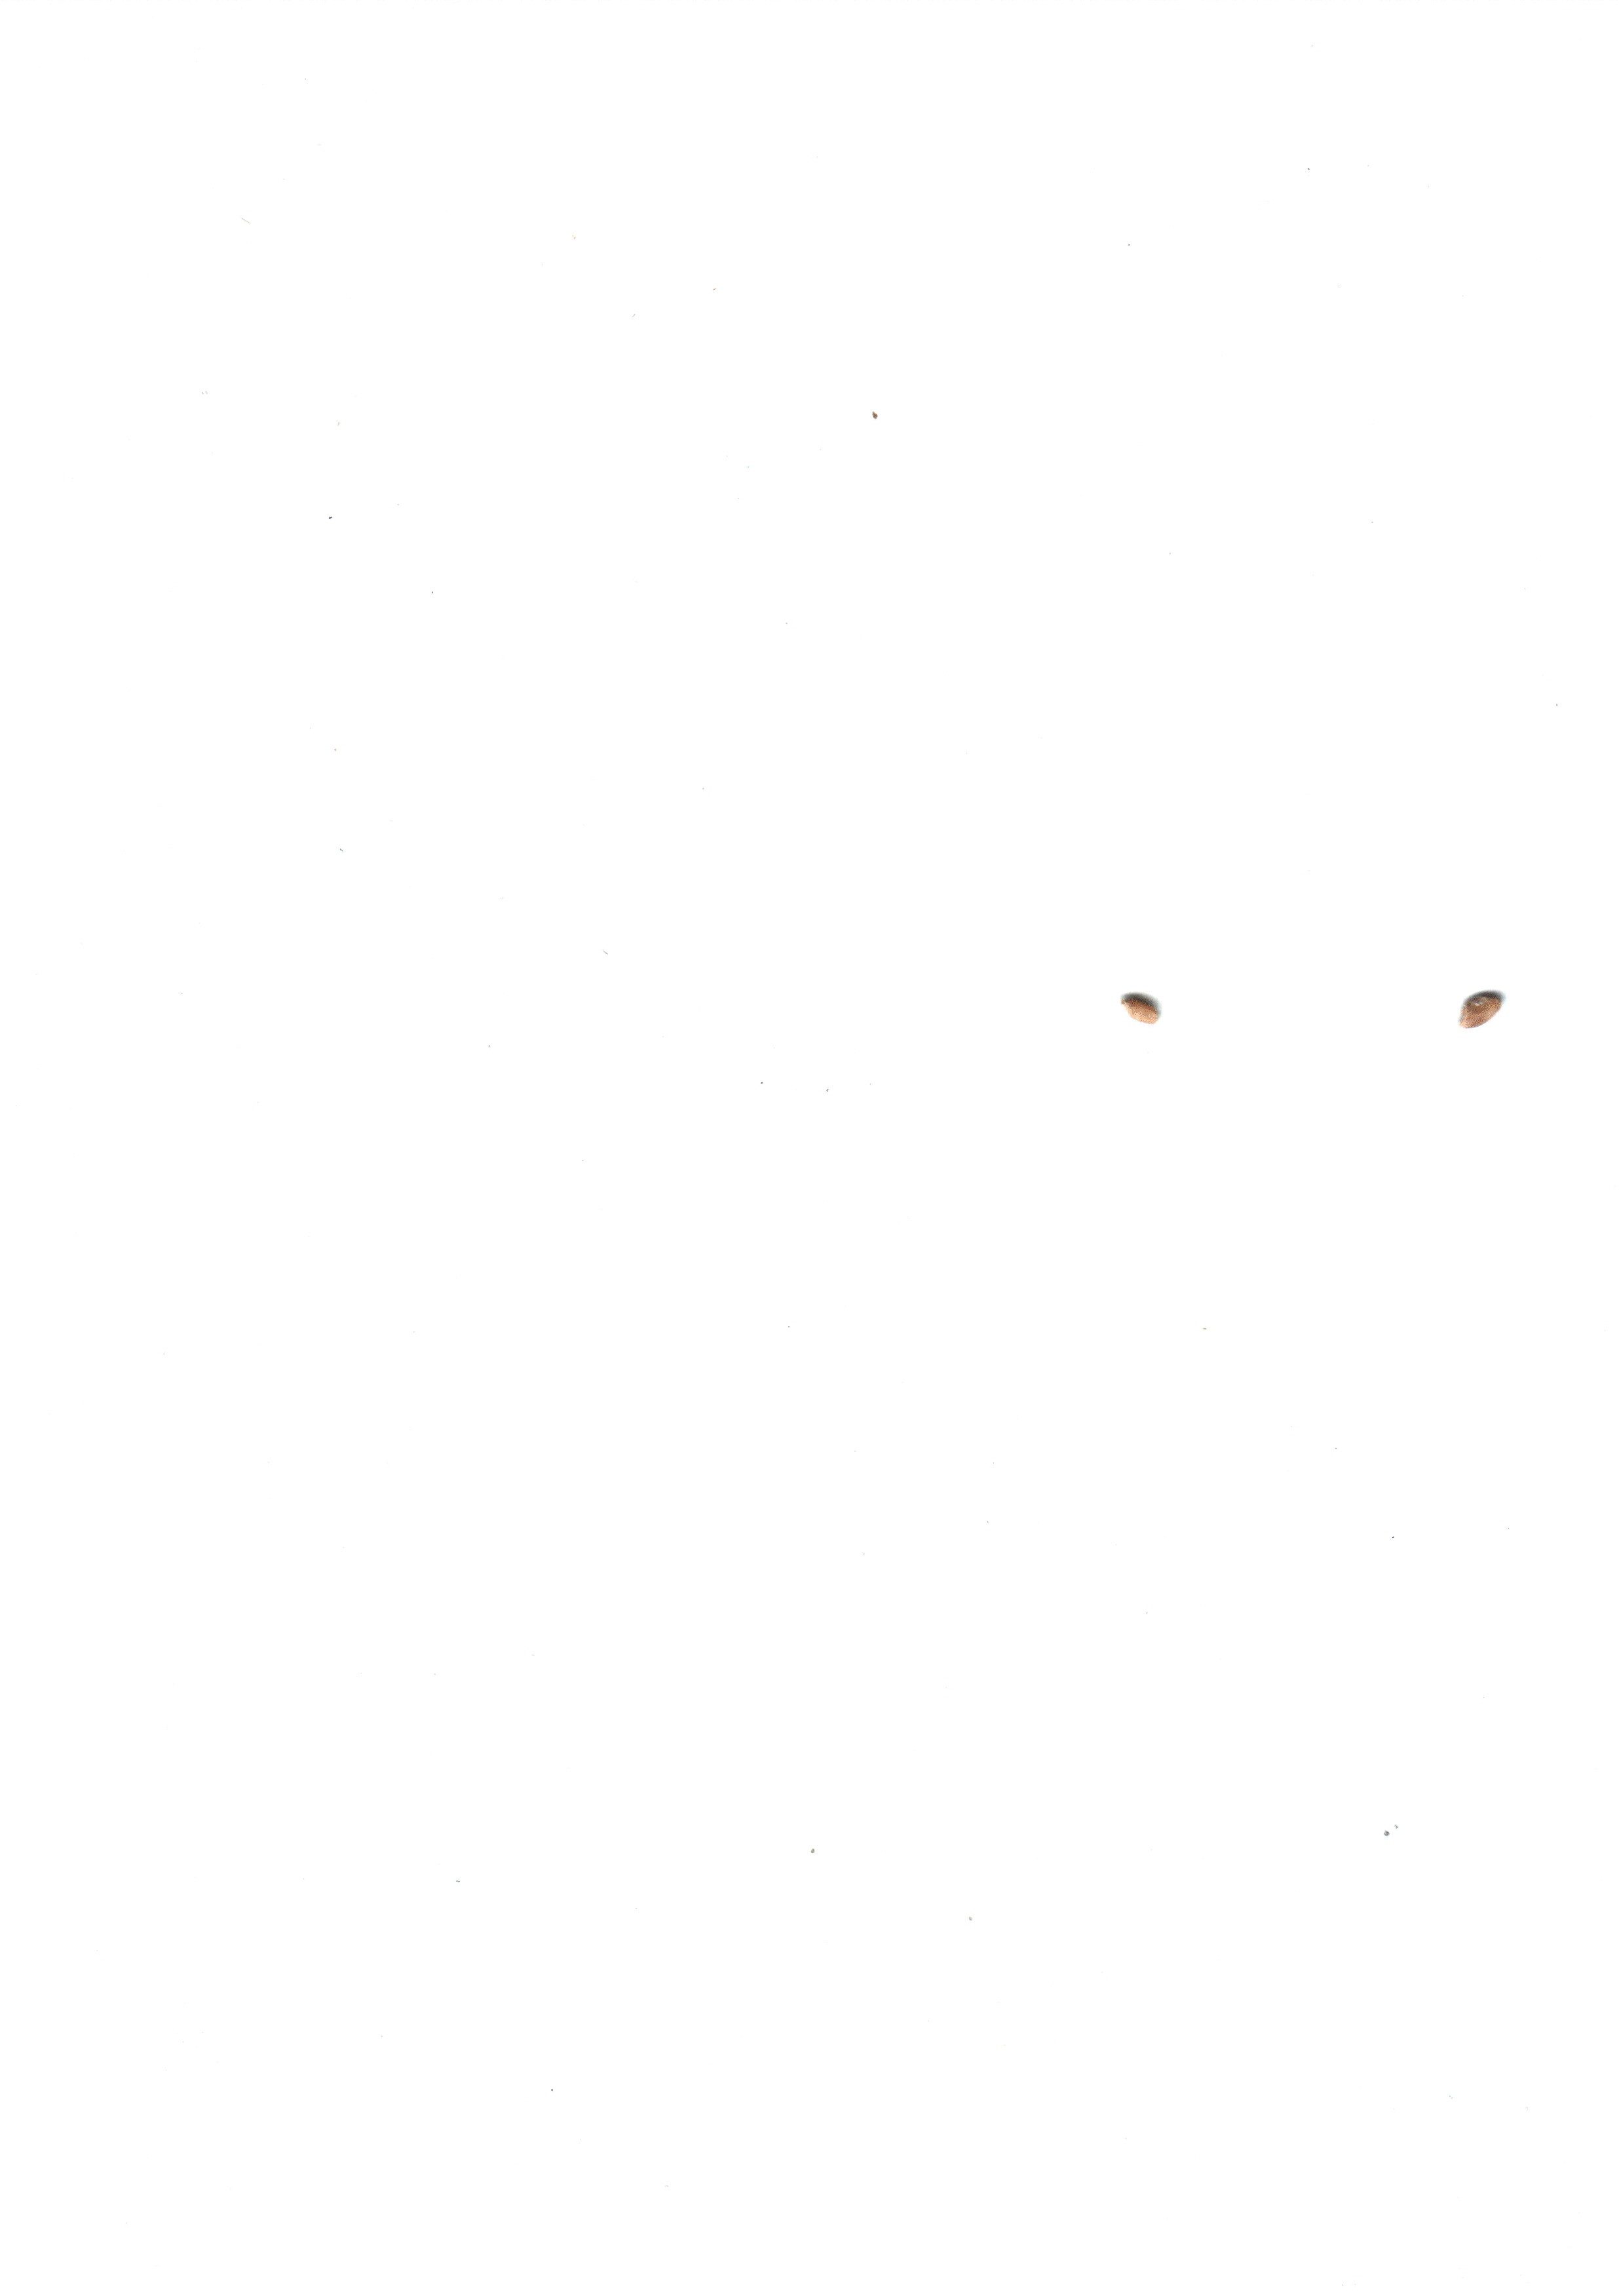grains_2mm: (1444, 978, 1524, 1057), (1113, 974, 1176, 1048)
